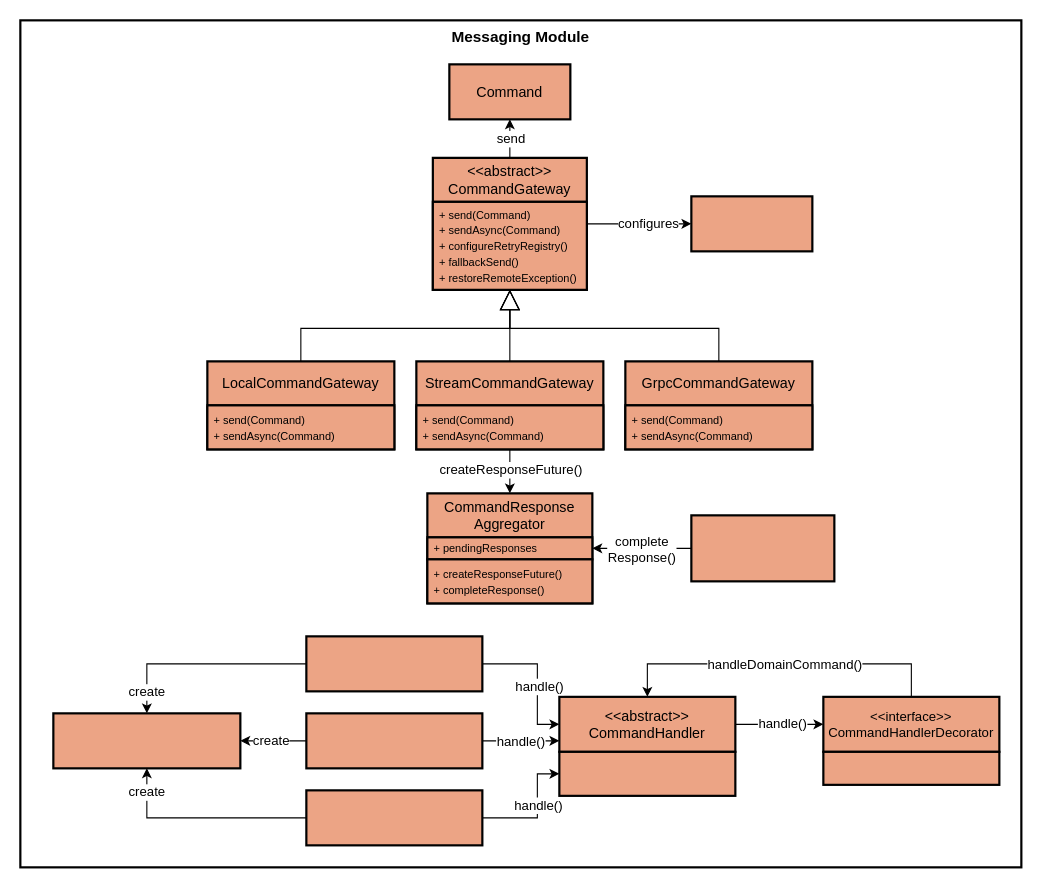
This 1041x887 diagram has some shape labels left out. The shapes that lost their labels are listed below. From the top down, each one's centre as x and y in pixels, then its label:
At (x=751, y=223): "RetryRegistry".
At (x=762, y=548): "Stream CommandResponse Listener".
At (x=394, y=663): "LocalCommandService".
At (x=146, y=740): "CommandResponse".
At (x=394, y=740): "StreamCommandService".
At (x=647, y=773): "+ handle() + handleDomainCommand()".
At (x=911, y=767): "+ handle()".
At (x=394, y=817): "GrpcCommandService".
